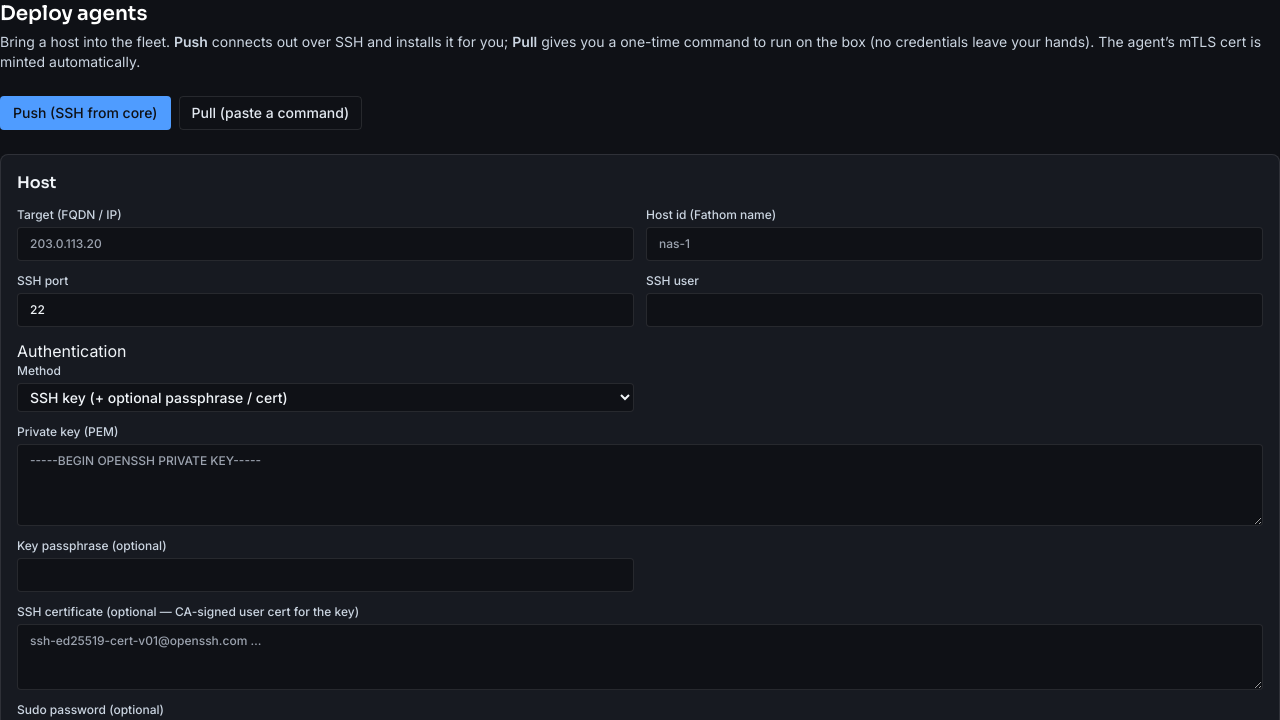
Test: Deploy page › shows push/pull modes for an admin and generates a pull command
This screenshot has width=1280, height=720.
Switch to pull mode, fill the host id, generate.
Click the tab "Pull (paste a command)". click: (270, 113)
box: [178,96,362,130]
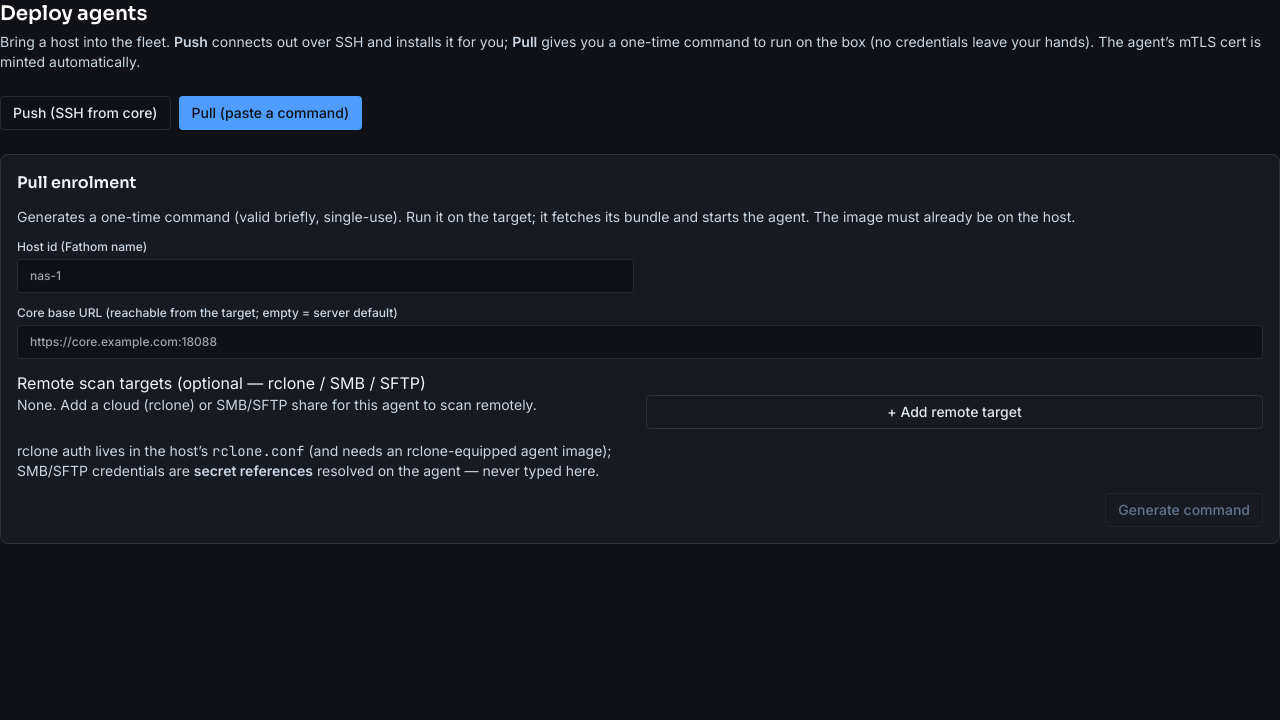
Type "node-2" into the field with placeholder "nas-1". click: (326, 276)
box: [17,259,634,293]
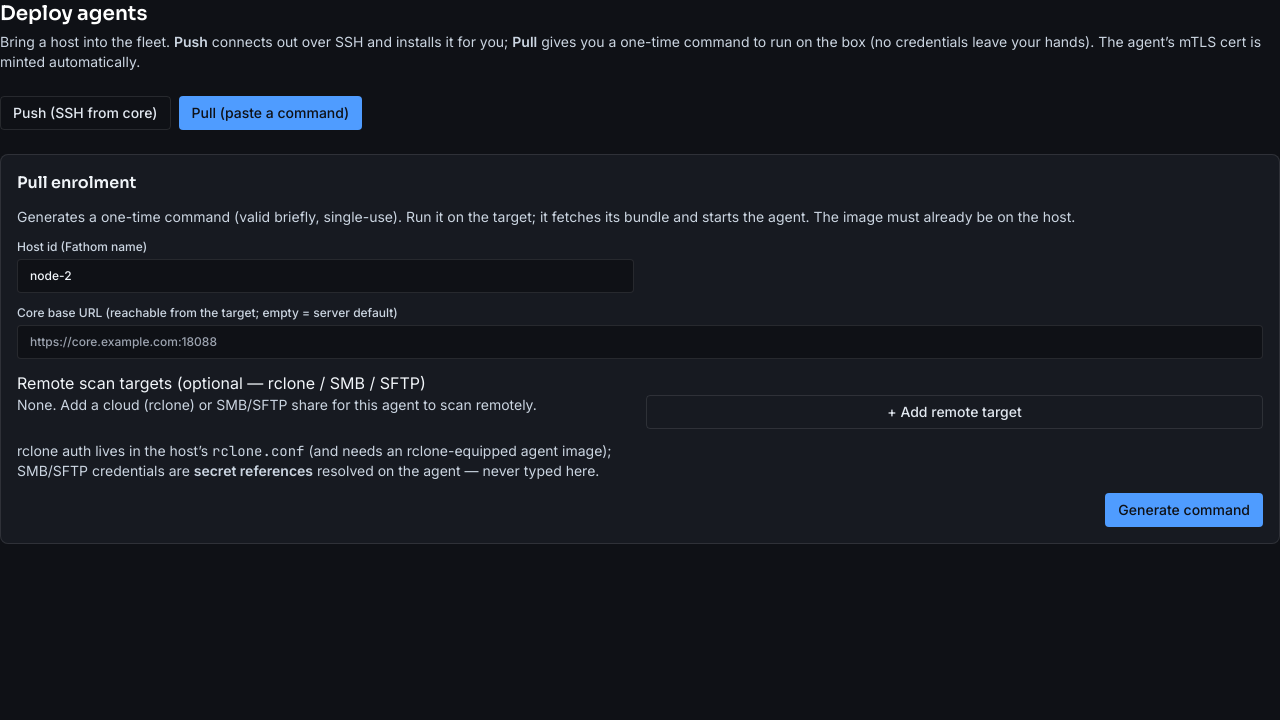
Click the button "Generate command". click: (1184, 510)
box: [1105,493,1263,527]
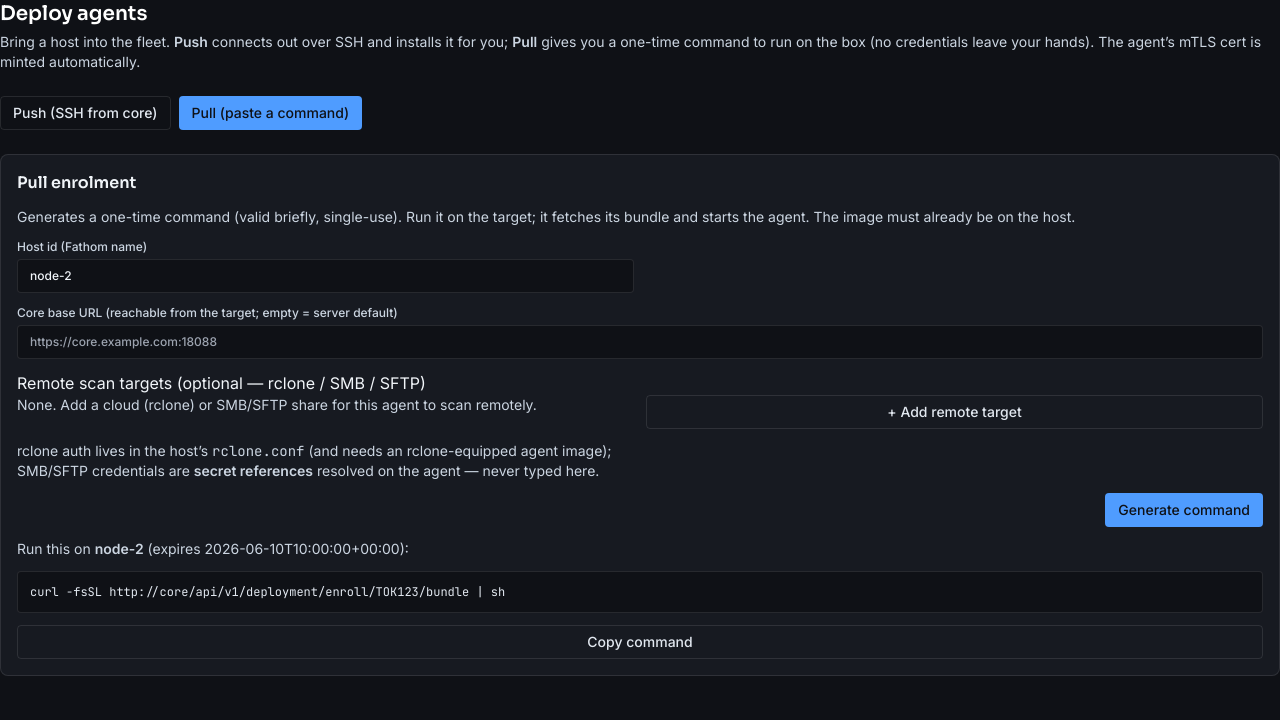
Expected: the text "enroll/TOK123/bundle" is shown, [30,584,505,600]
